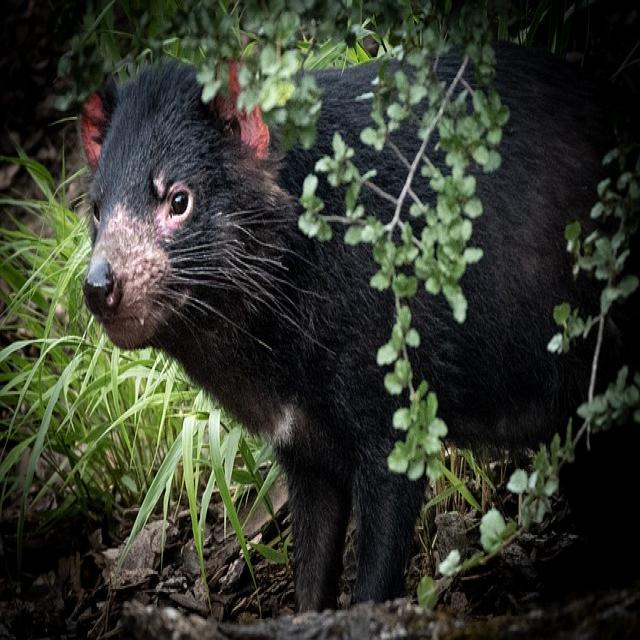Carnivorous: (80, 60, 433, 616), (409, 39, 640, 448)
